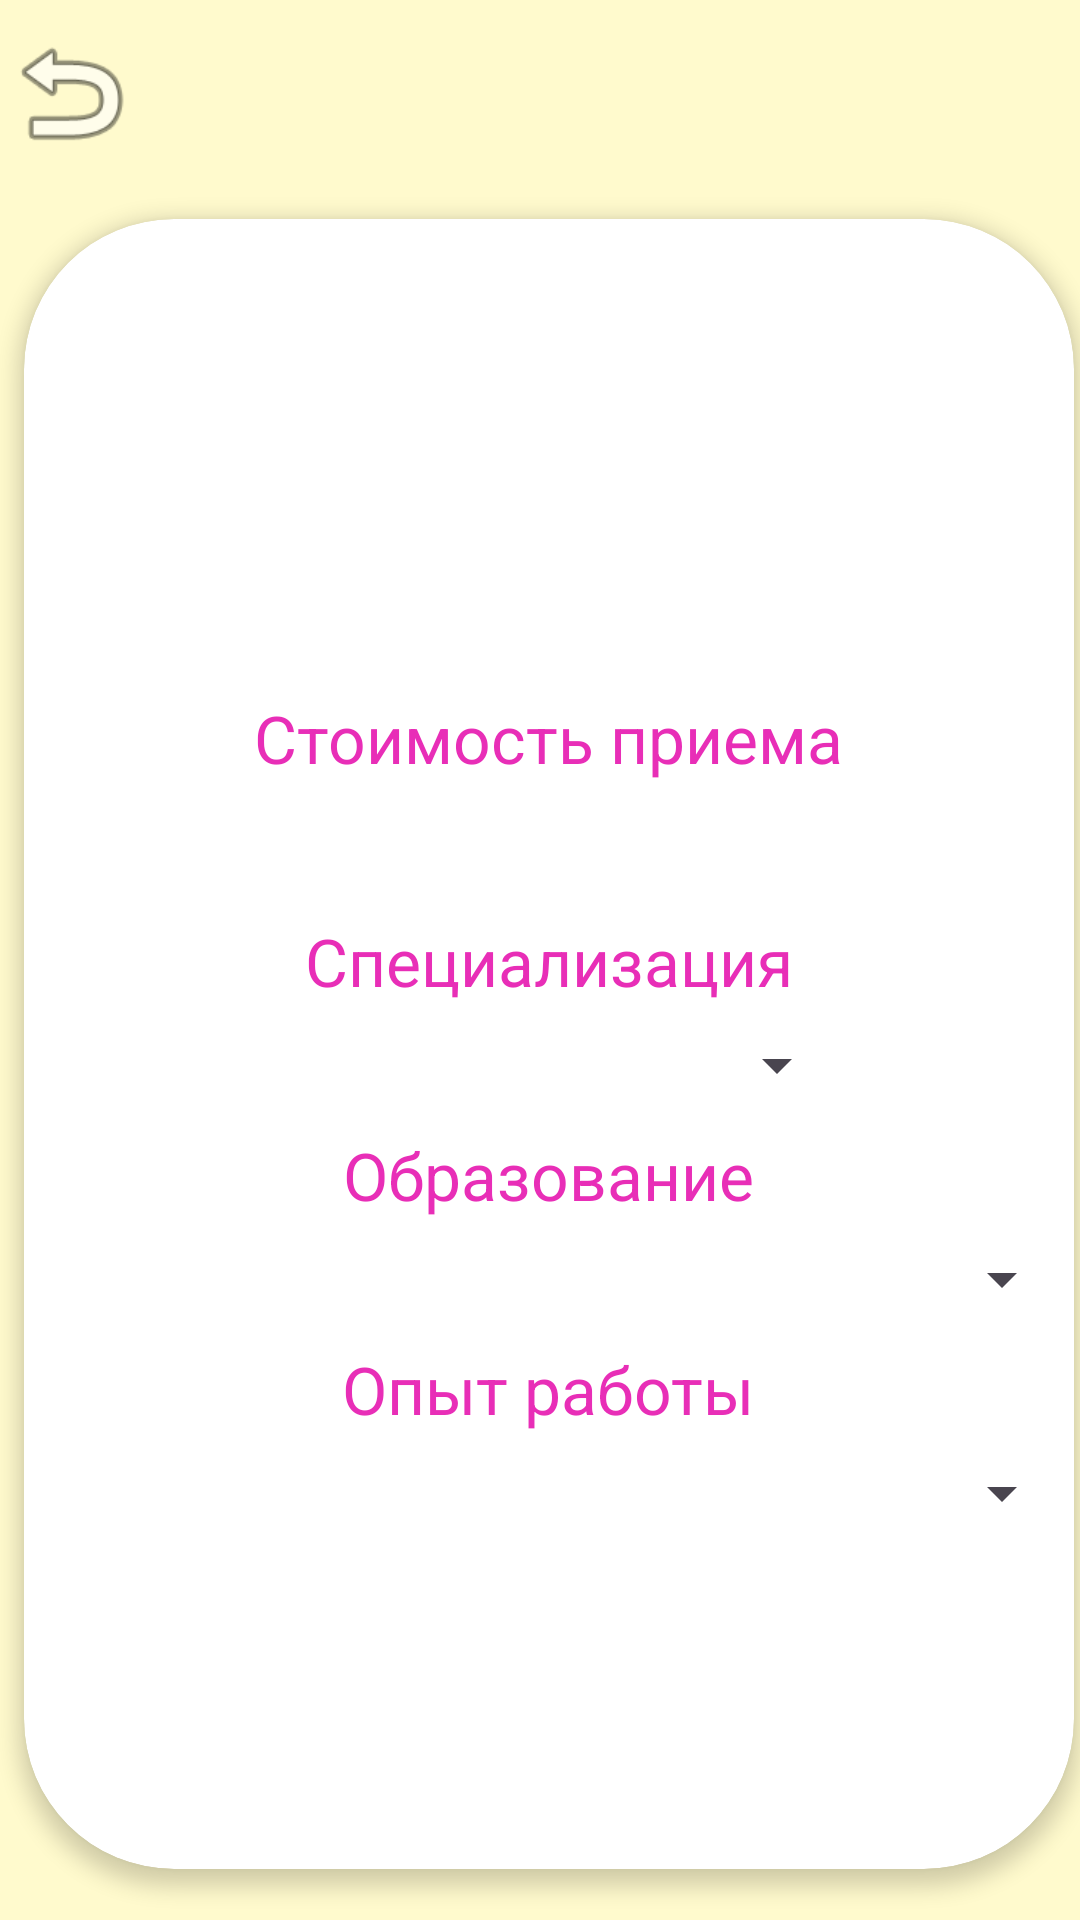

Point at icon controls on the screen. Image size 1080×1920, points as [x,y].
revert: [72,94]
